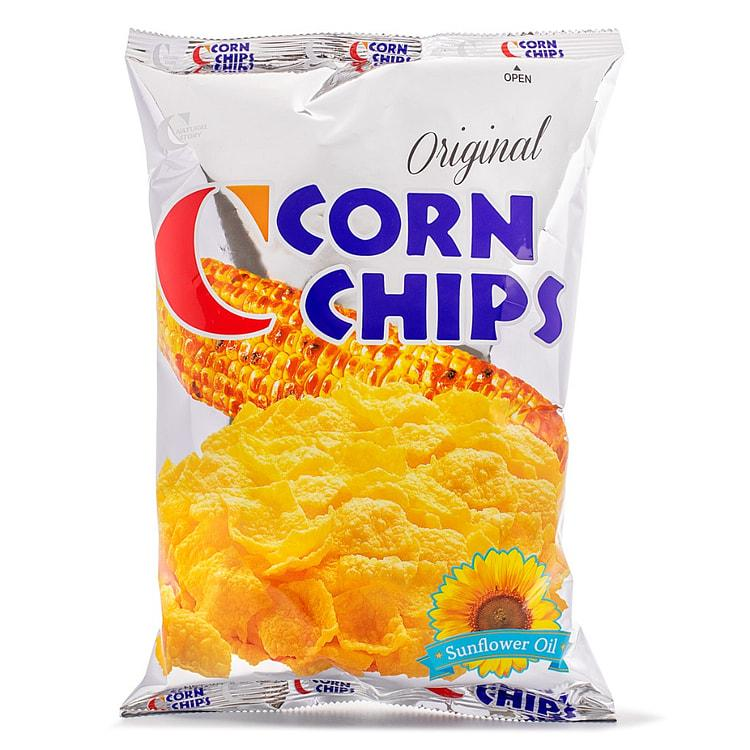snack: (119, 22, 627, 723)
